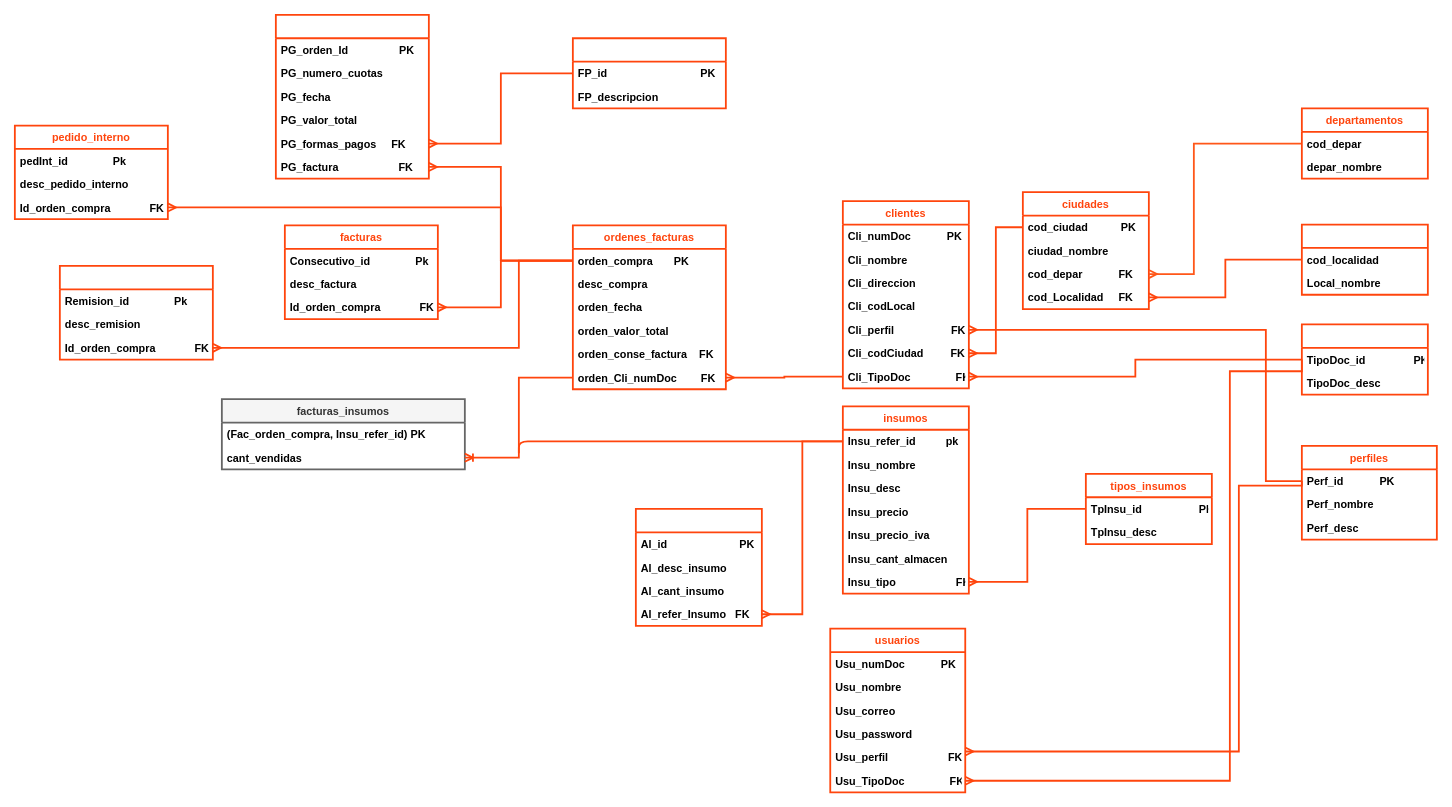
Some shapes in this 1452 by 807 pixel diagram are drawn without their labels. The box of each missing label's shape, as (x1, y1, x2, y2) in pixels:
almacen: (634, 508, 762, 626)
formas_pagos: (572, 37, 726, 109)
localidades: (1300, 223, 1428, 295)
pagos_ordenes: (274, 14, 429, 179)
remisiones: (58, 265, 213, 360)
tipoDocumentos: (1300, 323, 1428, 395)
